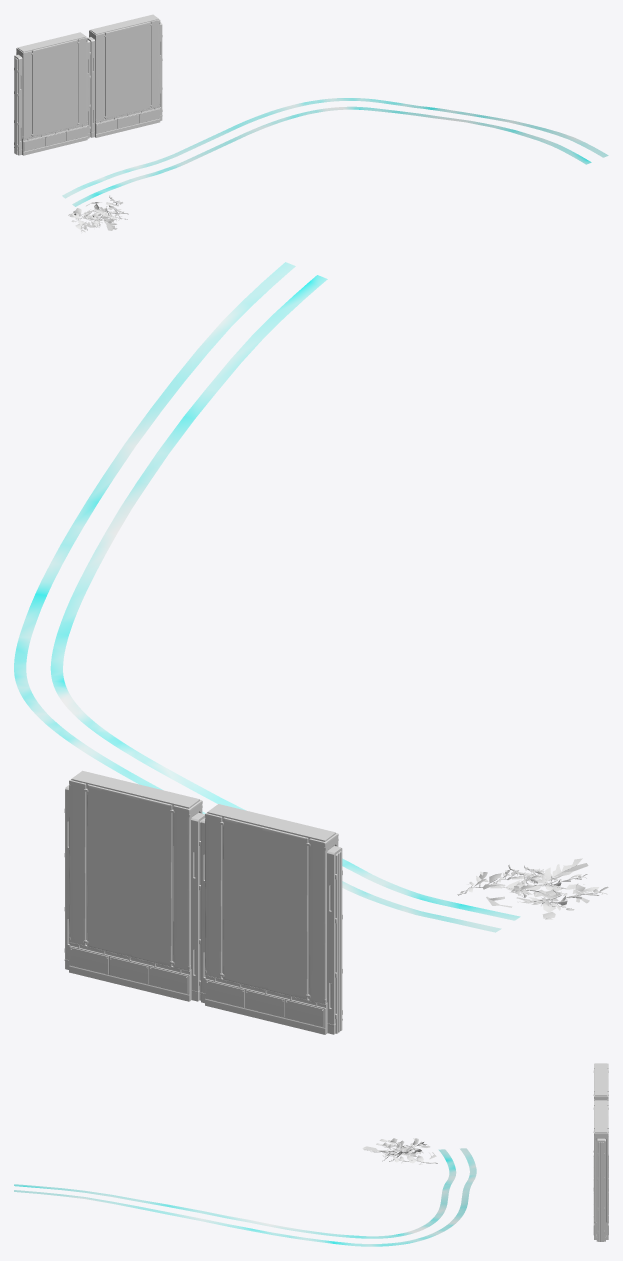
File: cell_165_120.fbx
3 views of the same model, one above another, from view 1: azimuth 30°, elevation 25°; view 2: azimuth 150°, elevation 25°; view 3: azimuth 270°, elevation 25° (orthographic). The views are drawn at different scales.
Parts seen in each view (by area): view 1: SM_H_Fence_Metal_1024x768_01.mo.075, SM_H_Fence_Metal_1024x768_01.mo.072, SpaceCenter_Long3_GenerateRoad_Sand_TireTracks_Narrow_Mesh_., SM_DECOR_Juniper_Needles_01_HD.mo.100, SM_DECOR_DatePalm_Dry_03_HD.mo.257; view 2: SM_H_Fence_Metal_1024x768_01.mo.075, SM_H_Fence_Metal_1024x768_01.mo.072, SpaceCenter_Long3_GenerateRoad_Sand_TireTracks_Narrow_Mesh_., SM_DECOR_Juniper_Needles_01_HD.mo.100, SM_DECOR_DatePalm_Dry_03_HD.mo.257; view 3: SpaceCenter_Long3_GenerateRoad_Sand_TireTracks_Narrow_Mesh_., SM_H_Fence_Metal_1024x768_01.mo.072, SM_H_Fence_Metal_1024x768_01.mo.075, SM_DECOR_Juniper_Needles_01_HD.mo.100, SM_DECOR_Juniper_Needles_01_HD.mo.101.
Boxes of the visible parts, <box> form: SM_H_Fence_Metal_1024x768_01.mo.075: <box>14,32,89,155</box>; SM_H_Fence_Metal_1024x768_01.mo.072: <box>87,14,162,137</box>; SpaceCenter_Long3_GenerateRoad_Sand_TireTracks_Narrow_Mesh_.: <box>62,98,608,206</box>; SM_DECOR_Juniper_Needles_01_HD.mo.100: <box>68,195,128,232</box>; SM_DECOR_DatePalm_Dry_03_HD.mo.257: <box>75,206,117,232</box>; SM_H_Fence_Metal_1024x768_01.mo.075: <box>200,804,342,1034</box>; SM_H_Fence_Metal_1024x768_01.mo.072: <box>64,770,204,1001</box>; SpaceCenter_Long3_GenerateRoad_Sand_TireTracks_Narrow_Mesh_.: <box>14,262,520,932</box>; SM_DECOR_Juniper_Needles_01_HD.mo.100: <box>457,864,608,919</box>; SM_DECOR_DatePalm_Dry_03_HD.mo.257: <box>500,858,602,906</box>; SpaceCenter_Long3_GenerateRoad_Sand_TireTracks_Narrow_Mesh_.: <box>14,1148,476,1246</box>; SM_H_Fence_Metal_1024x768_01.mo.072: <box>593,1100,608,1241</box>; SM_H_Fence_Metal_1024x768_01.mo.075: <box>593,1063,608,1191</box>; SM_DECOR_Juniper_Needles_01_HD.mo.100: <box>379,1138,437,1164</box>; SM_DECOR_Juniper_Needles_01_HD.mo.101: <box>376,1142,411,1163</box>.
Bounding box in the file's own units: 37.05 × 13.04 × 52.31.
